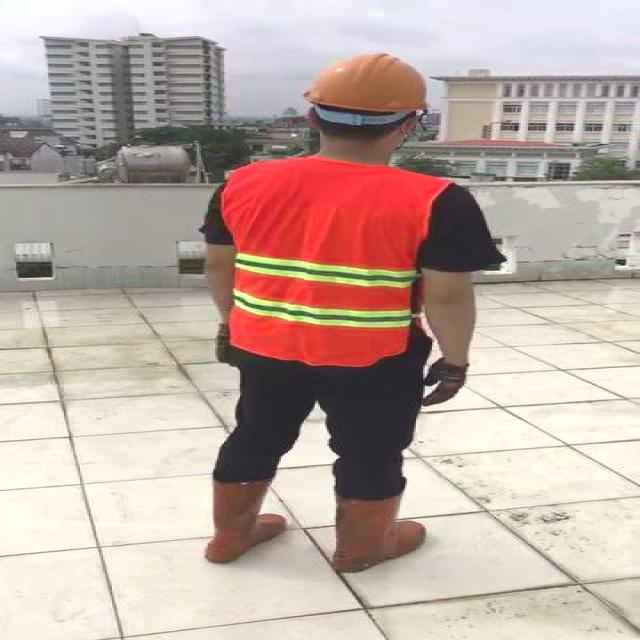boots: (331, 490, 426, 573), (204, 475, 288, 564)
hand_glove: (425, 360, 466, 408), (217, 321, 227, 363)
head_helmet: (307, 49, 429, 112)
person: (167, 43, 505, 575)
vest: (226, 160, 434, 364)
